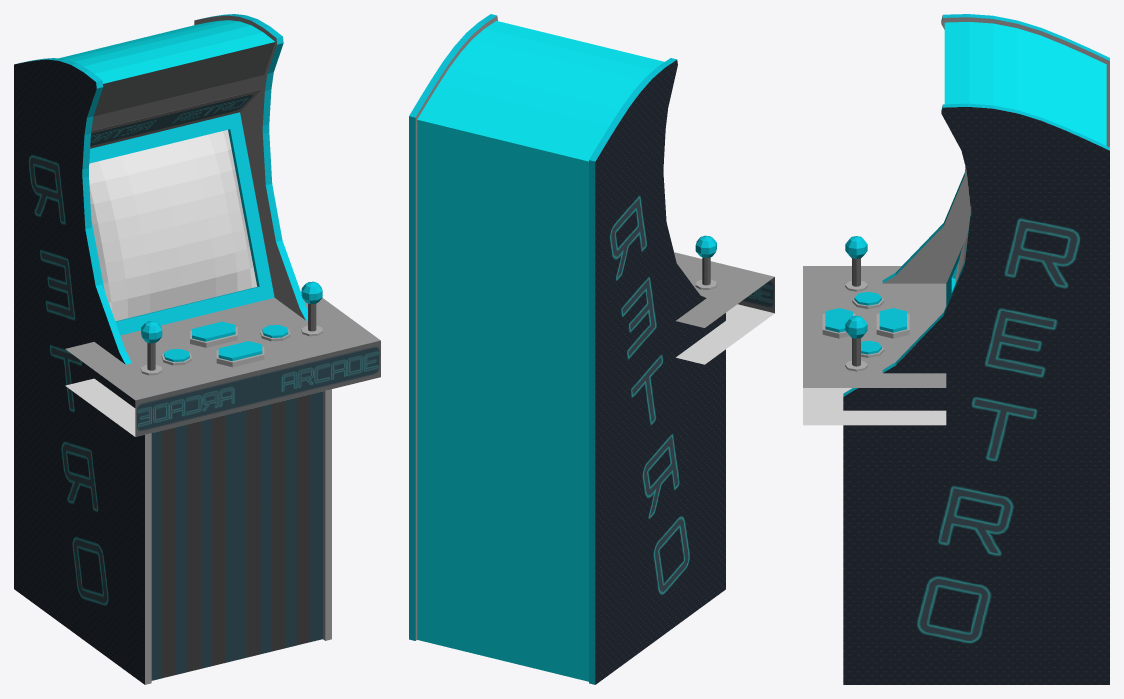
File: ArcadeMachine.fbx
3 views of the same model, side by side, from view 1: azimuth 30°, elevation 25°; view 2: azimuth 150°, elevation 25°; view 3: azimuth 270°, elevation 25° (orthographic). The views are drawn at different scales.
Parts seen in each view (by area): view 1: game_cube; view 2: game_cube; view 3: game_cube.
Boxes of the visible parts, x1,y1,x2,y2 form: game_cube: (14, 14, 380, 684); game_cube: (409, 14, 774, 684); game_cube: (803, 14, 1109, 684).
Size of the model in its own units: 595 by 1315 by 633.
